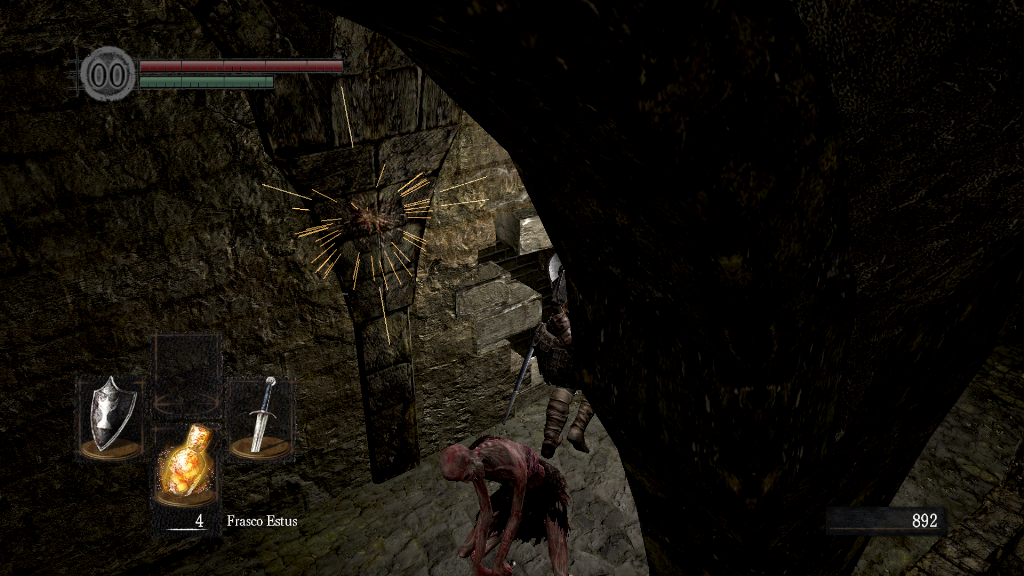health: (138, 58, 343, 71)
hollow: (437, 435, 573, 576)
humanity: (80, 45, 136, 102)
player: (500, 250, 602, 458)
souls: (825, 506, 945, 536)
stamina: (138, 74, 274, 88)
